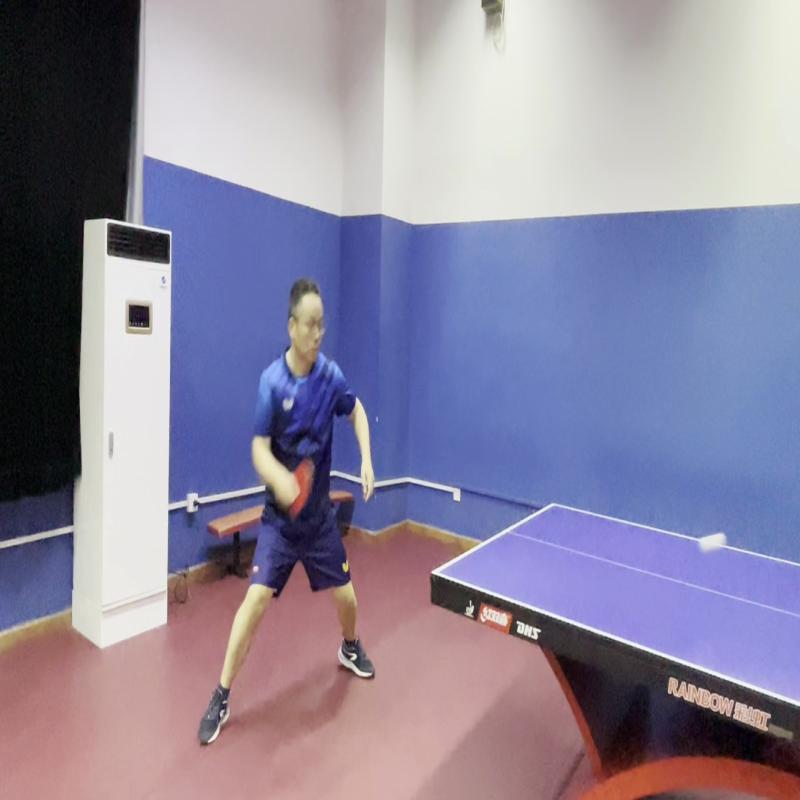bats: (284, 458, 318, 518)
